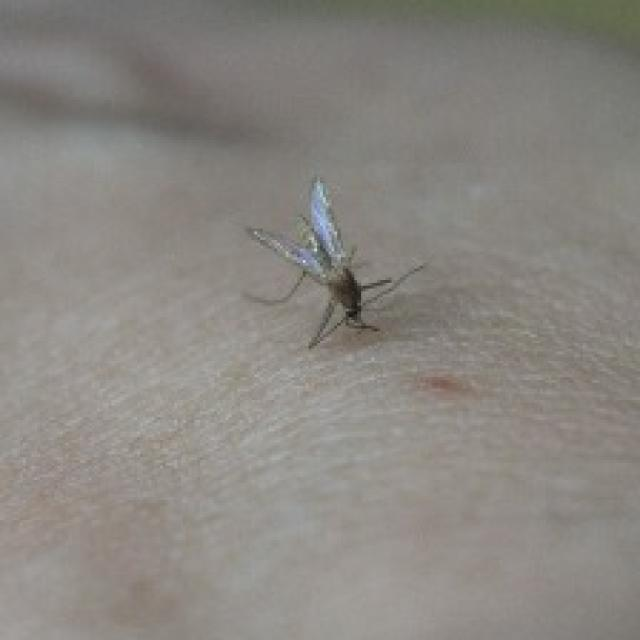culex: (240, 172, 426, 348)
